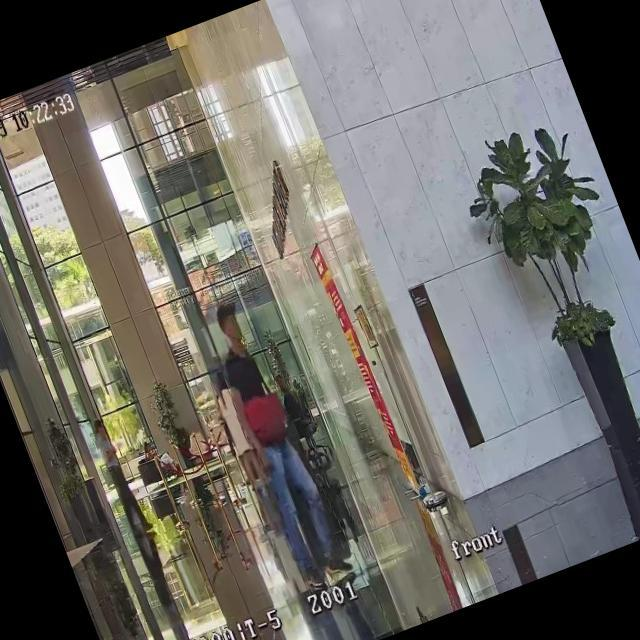person: (198, 294, 360, 599), (209, 370, 274, 497), (89, 415, 150, 533), (273, 372, 309, 436)
